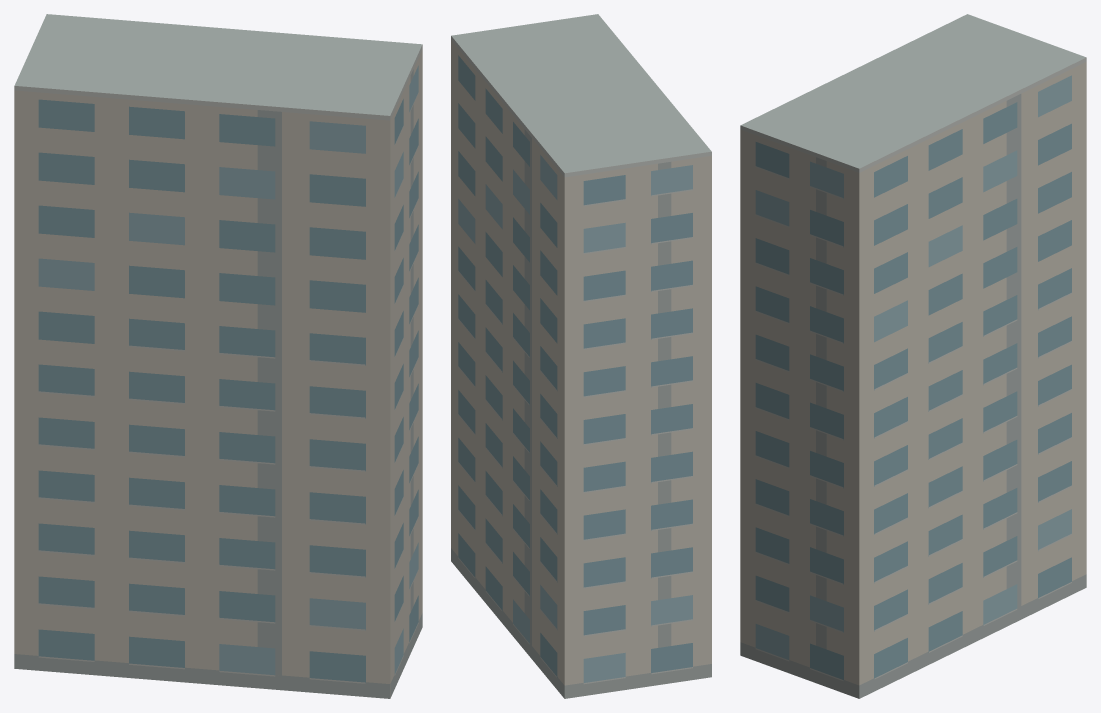
Rendered from residential-f7c5d27c-0bb6-475b-9300-1830a82c1010.glb.
3 views of the same model, side by side, from view 1: azimuth 30°, elevation 25°; view 2: azimuth 150°, elevation 25°; view 3: azimuth 270°, elevation 25° (orthographic). The views are drawn at different scales.
Visible parts, largest first — view 1: residential-f7c5d27c-0bb6-475b-9300-1830a82c1010.tmp; view 2: residential-f7c5d27c-0bb6-475b-9300-1830a82c1010.tmp; view 3: residential-f7c5d27c-0bb6-475b-9300-1830a82c1010.tmp.
Part boxes in pixels (bbox=[...]): residential-f7c5d27c-0bb6-475b-9300-1830a82c1010.tmp: bbox=[14, 14, 422, 698]; residential-f7c5d27c-0bb6-475b-9300-1830a82c1010.tmp: bbox=[451, 14, 711, 698]; residential-f7c5d27c-0bb6-475b-9300-1830a82c1010.tmp: bbox=[740, 14, 1086, 698].
Size of the model in its own units: 19.41 by 31 by 18.35.
